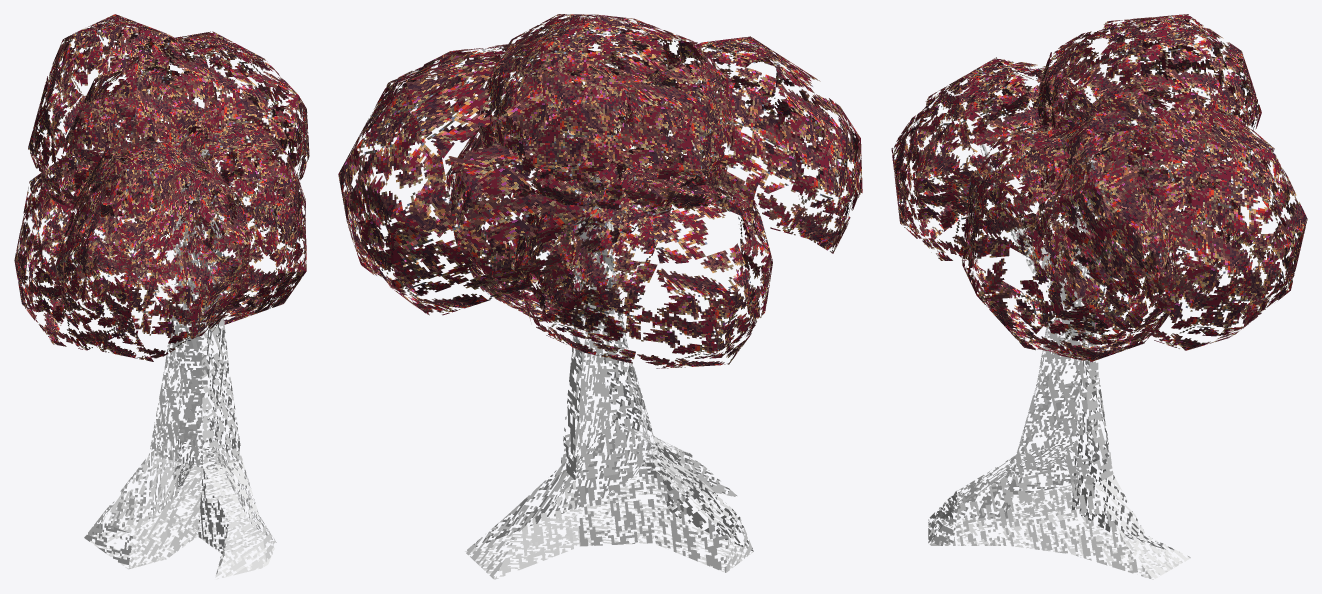
Rendered from oak tree.fbx.
3 renders of one model, left to right at view 1: azimuth 30°, elevation 25°; view 2: azimuth 150°, elevation 25°; view 3: azimuth 270°, elevation 25°, orthographic. The views are drawn at different scales.
Parts seen in each view (by area): view 1: Icosphere.002, Trunk, Icosphere.001, Icosphere, Icosphere.004, Icosphere.003; view 2: Icosphere, Icosphere.001, Icosphere.003, Trunk, Icosphere.002, Icosphere.004; view 3: Icosphere, Trunk, Icosphere.004, Icosphere.001, Icosphere.002, Icosphere.003.
Part boxes in pixels (<box>): Icosphere.002: <box>55,140,250,361</box>; Trunk: <box>84,133,276,579</box>; Icosphere.001: <box>28,14,221,217</box>; Icosphere: <box>64,31,309,222</box>; Icosphere.004: <box>138,117,306,324</box>; Icosphere.003: <box>14,149,205,350</box>; Icosphere: <box>338,39,667,315</box>; Icosphere.001: <box>477,14,735,212</box>; Icosphere.003: <box>513,142,772,368</box>; Trunk: <box>465,80,753,579</box>; Icosphere.002: <box>609,36,862,253</box>; Icosphere.004: <box>445,51,681,321</box>; Icosphere: <box>1033,81,1307,350</box>; Trunk: <box>928,144,1190,579</box>; Icosphere.004: <box>962,114,1178,362</box>; Icosphere.001: <box>1028,14,1261,195</box>; Icosphere.002: <box>891,57,1107,260</box>; Icosphere.003: <box>1013,127,1240,294</box>.
Bounding box in the file's own units: 173 × 251 × 185.
